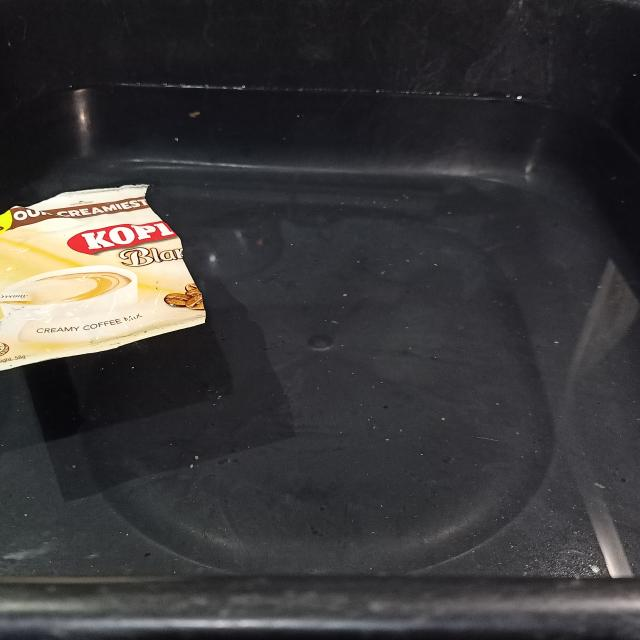Plastic Wrapper: (0, 185, 205, 370)
